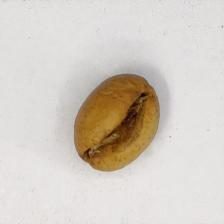NG: (75, 73, 160, 168)
